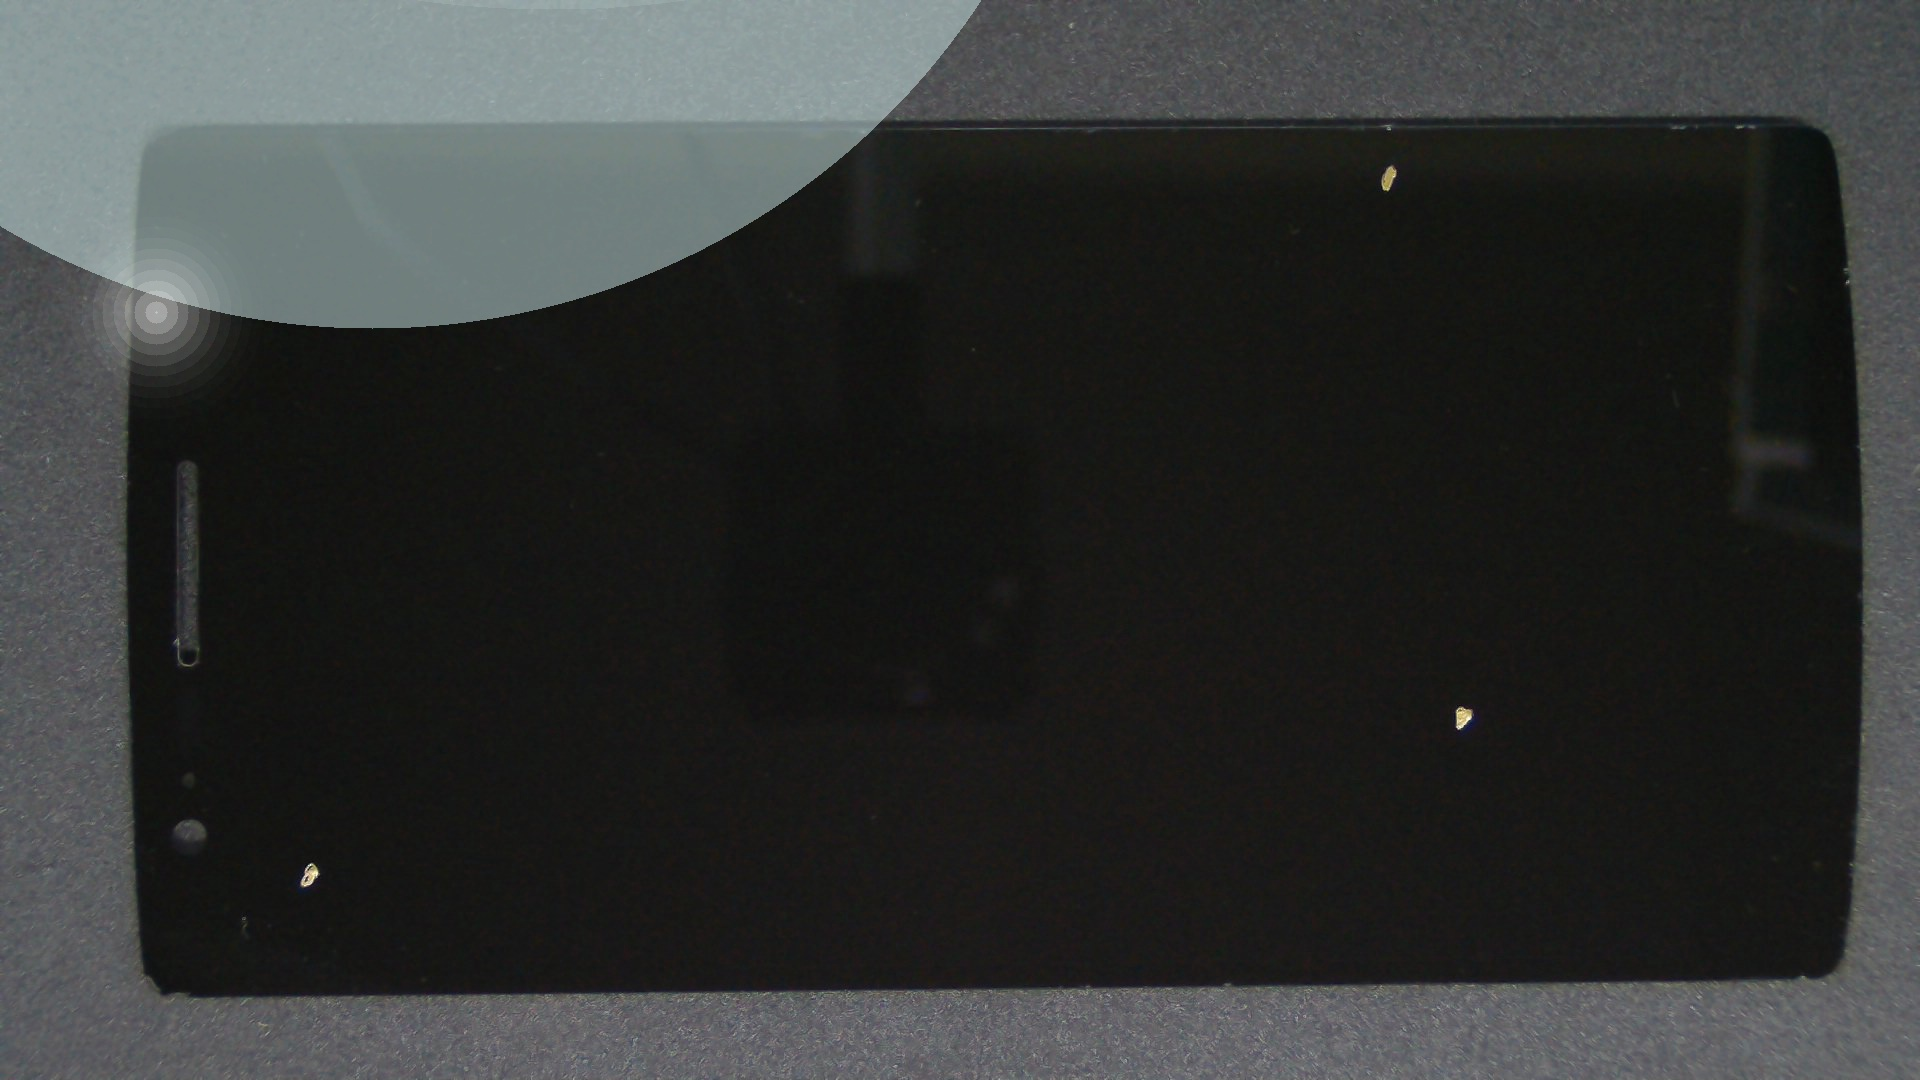oil: (732, 352, 1920, 1056), (692, 82, 1920, 248), (157, 430, 469, 1080)
